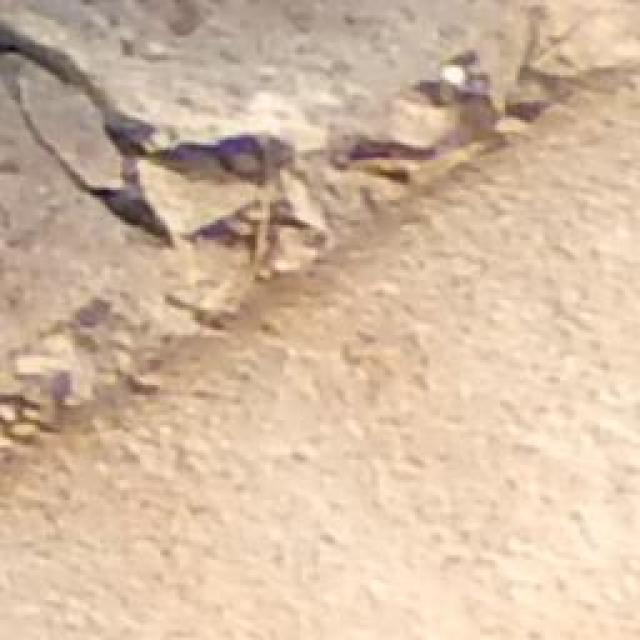concrete-crack: (0, 8, 640, 455)
